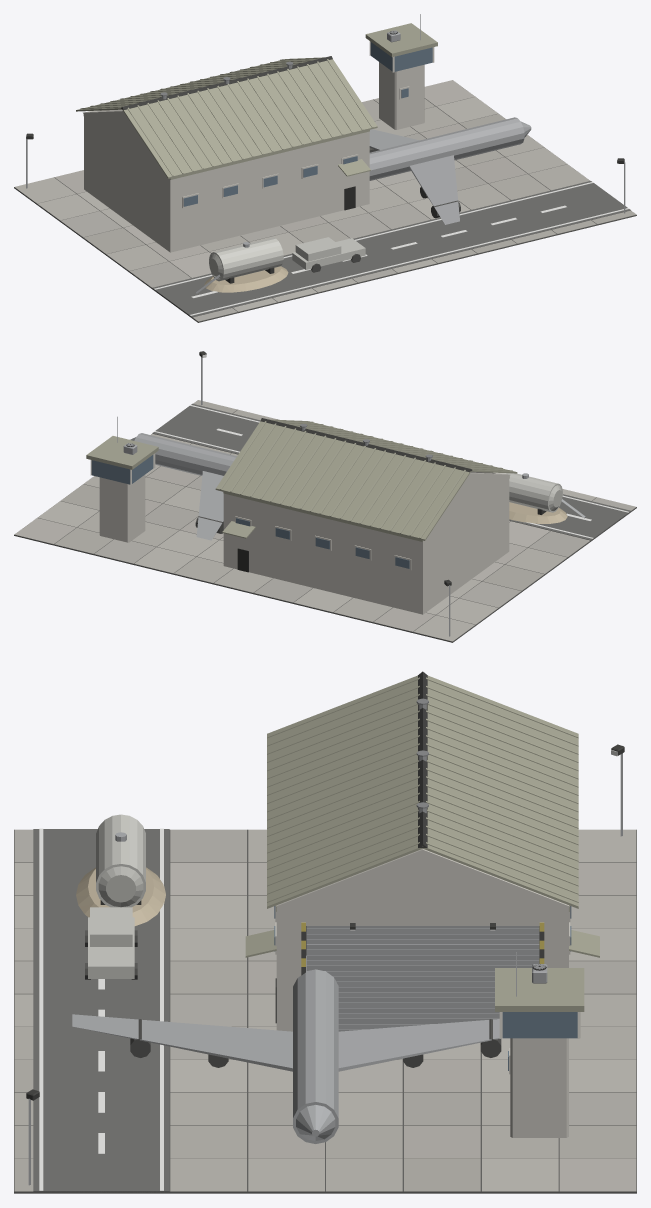
The model's file is b_tankerbase.glb.
3 renders of one model, top to bottom at view 1: azimuth 30°, elevation 25°; view 2: azimuth 150°, elevation 25°; view 3: azimuth 270°, elevation 25°, orthographic. The views are drawn at different scales.
Parts seen in each view (by area): view 1: hull; view 2: hull; view 3: hull, door.
Part boxes in pixels (x1=…): hull: x1=14, y1=14, x2=636, y2=322; hull: x1=14, y1=351, x2=636, y2=642; hull: x1=14, y1=671, x2=636, y2=1193; door: x1=306, y1=926, x2=539, y2=1031.
Bounding box in the file's own units: 44 × 11.44 × 32.
